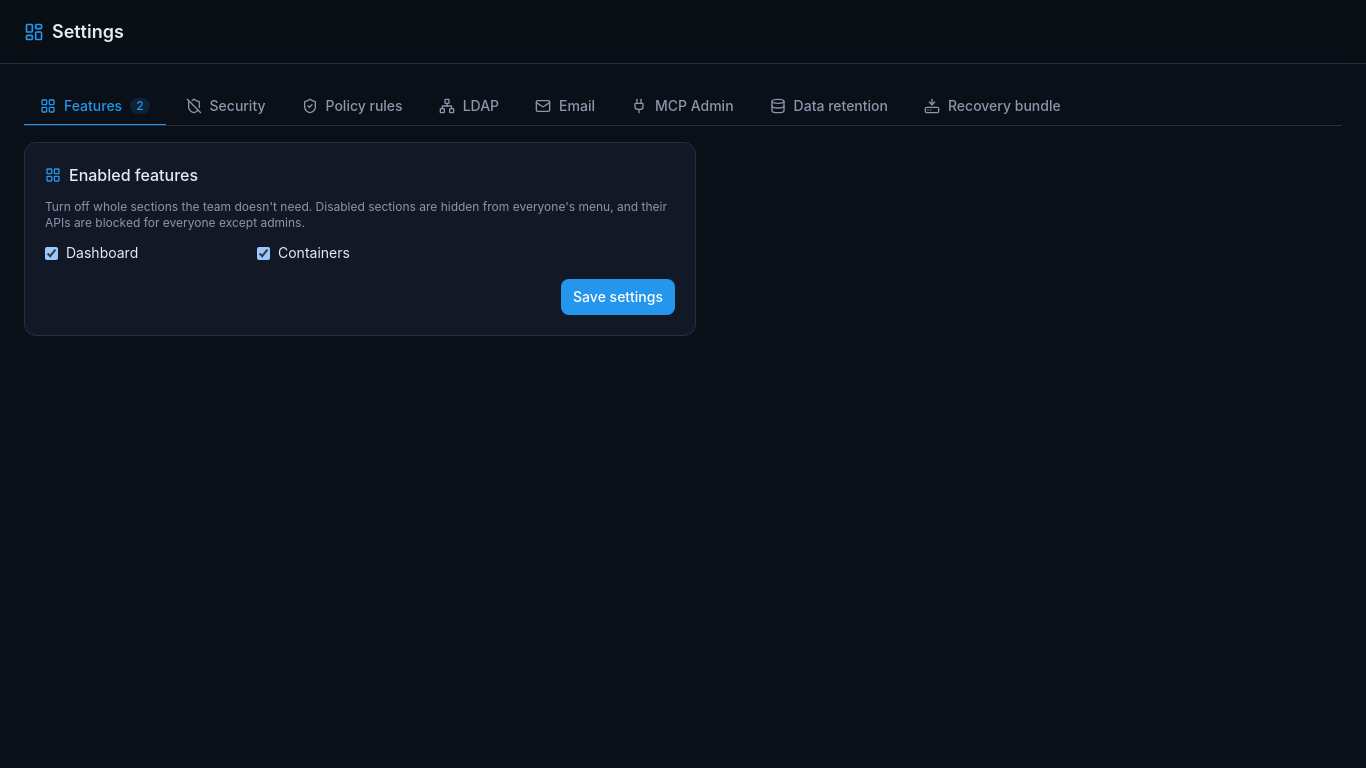
Test case: Settings hosts the admin pages as tabs › shows Policy rules, MCP Admin and Recovery bundle without a second page header
The image size is (1366, 768).
Click the button "Policy rules" at (352, 107), box [286,88,419,126]
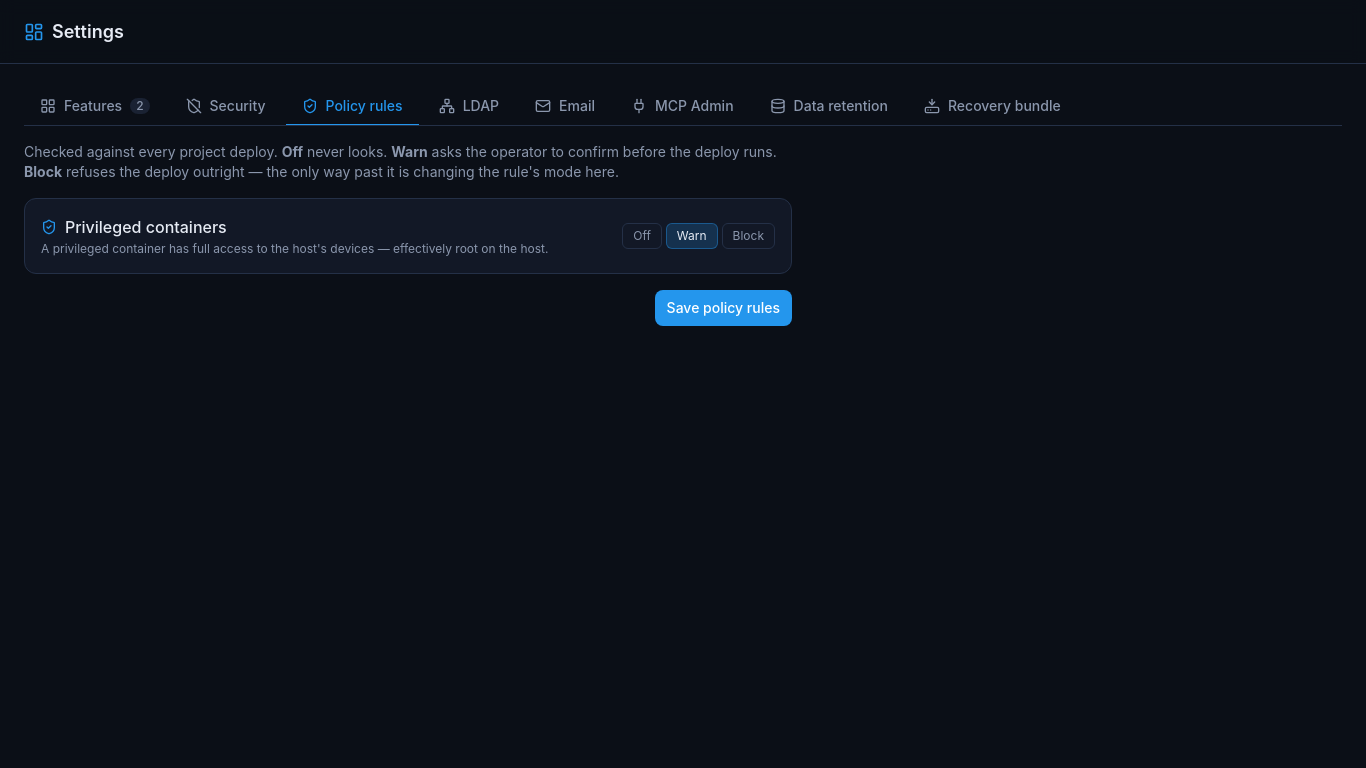
Expected: the text "Checked against every project deploy" is shown, [24,143,282,160]
Click the button "MCP Admin" at (682, 107), box [615,88,750,126]
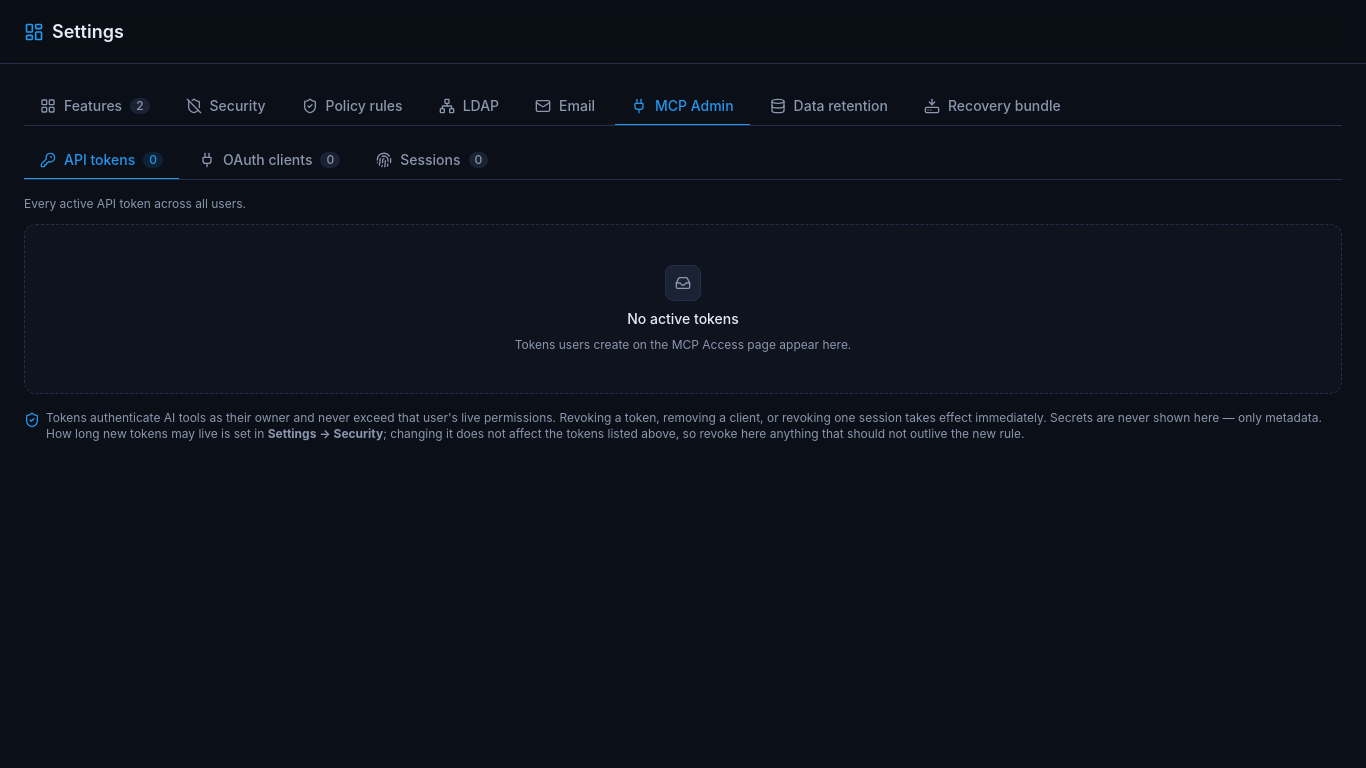
Expected: the text "API tokens" is shown, [24,142,179,180]
Click the button "Data retention" at (829, 107), box [754,88,904,126]
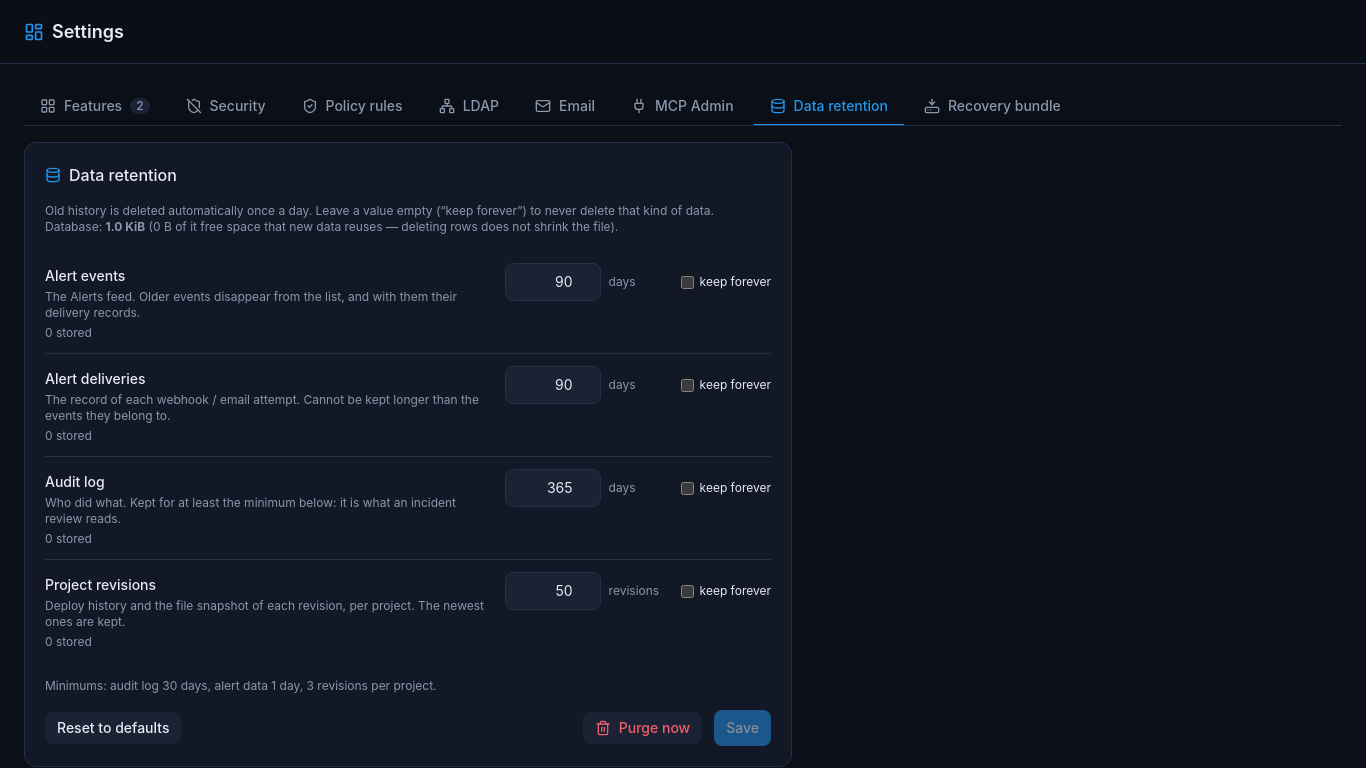
Click the button "Recovery bundle" at (992, 107), box [908,88,1077,126]
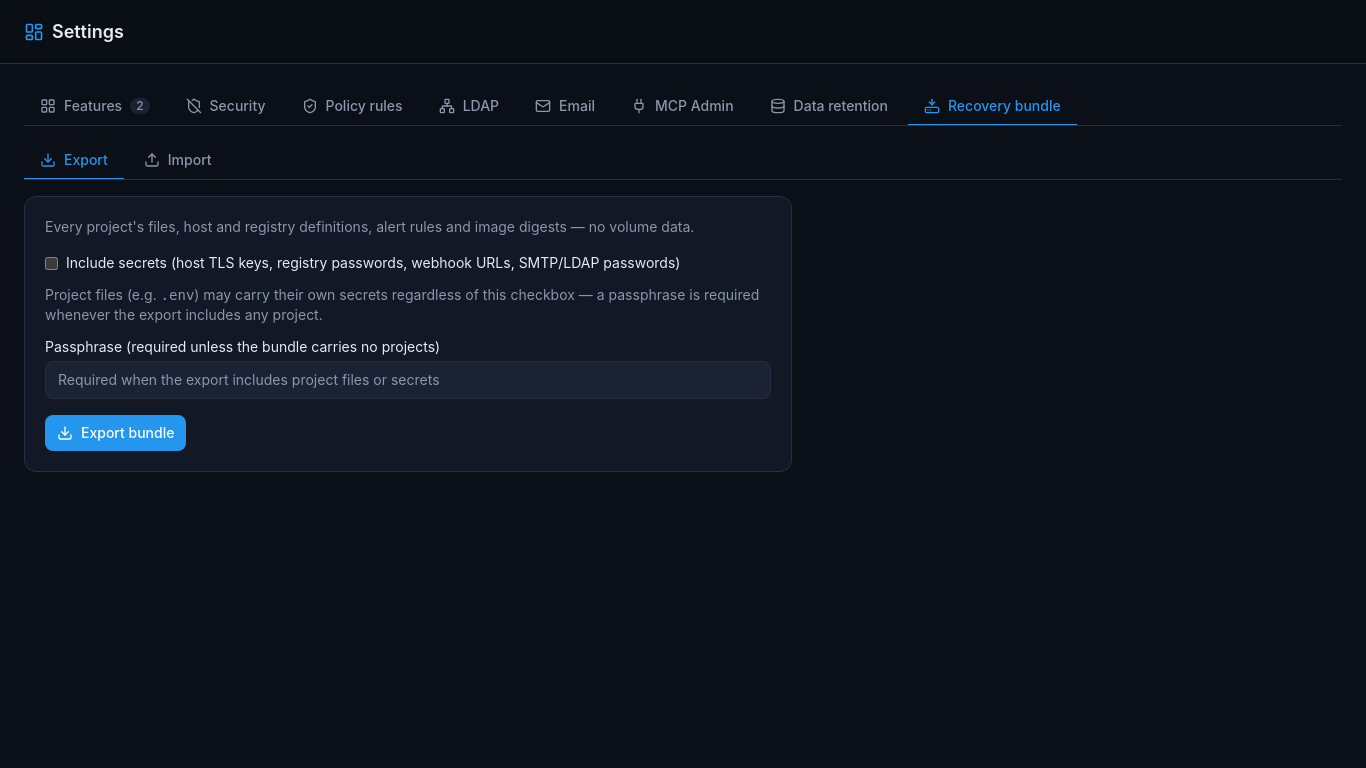
Expected: the text "Export" is shown, [24,142,124,180]
